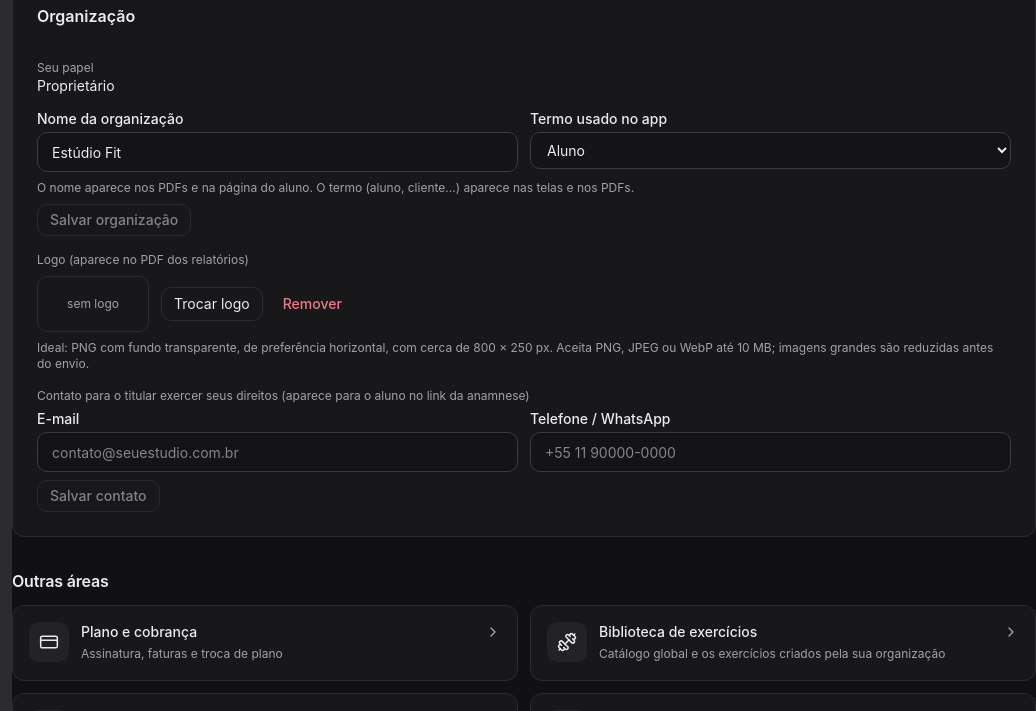
Ajustes: contato do controlador › telefone curto demais é recusado na tela, não pelo CHECK do banco em inglês
The image size is (1036, 711).
(page scrolled)
Type "1234" into the field labelled "Telefone / WhatsApp" at (770, 452), box [530,432,1011,472]
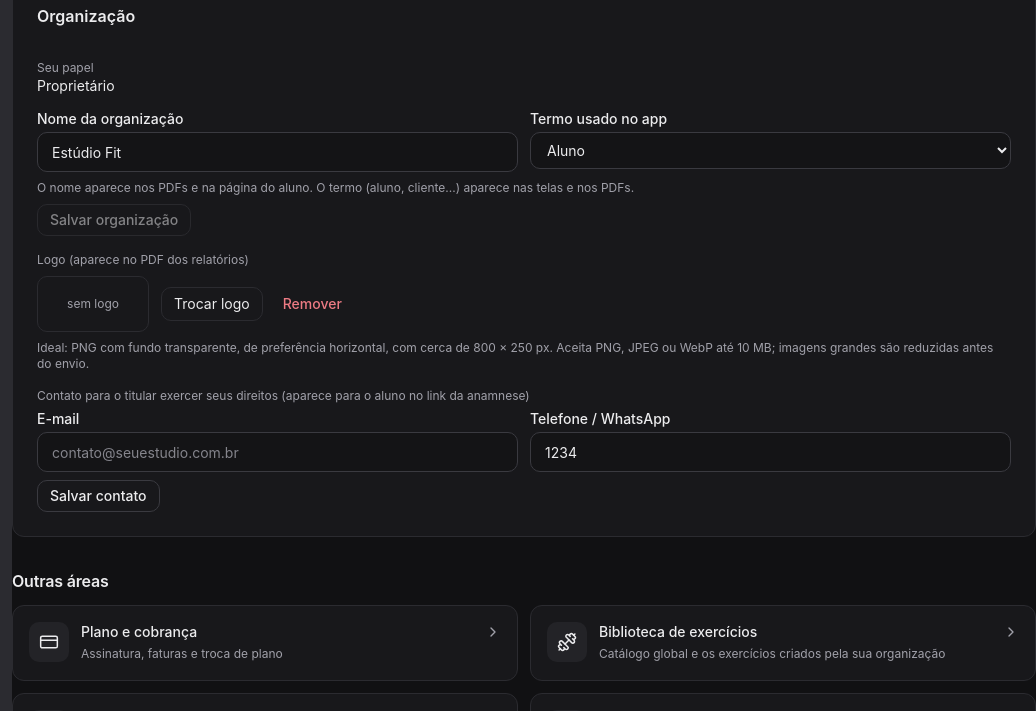
Click the button "Salvar contato" at (98, 496), box [37,480,160,512]
(page scrolled)
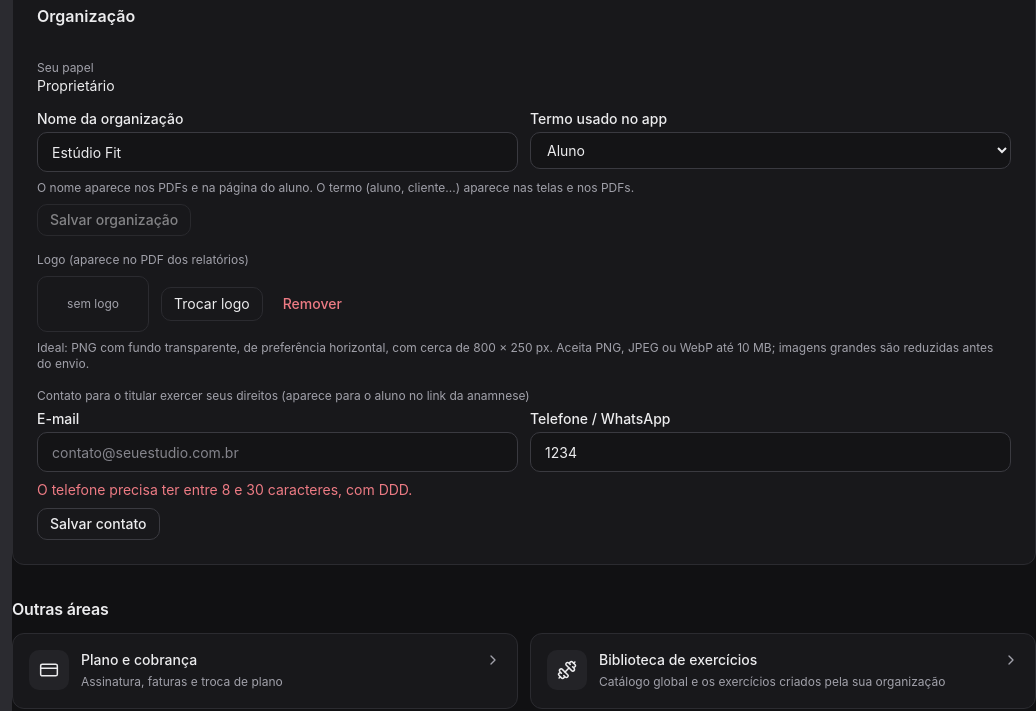
Now the message shows "entre 8 e 30", box [37,481,412,498]
